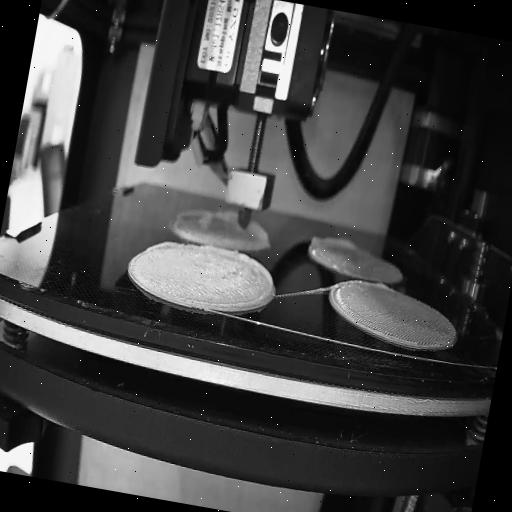over_extrusion: (222, 248, 278, 318), (304, 230, 358, 258), (146, 234, 184, 259), (246, 217, 272, 245), (212, 203, 240, 224), (370, 278, 394, 294)
